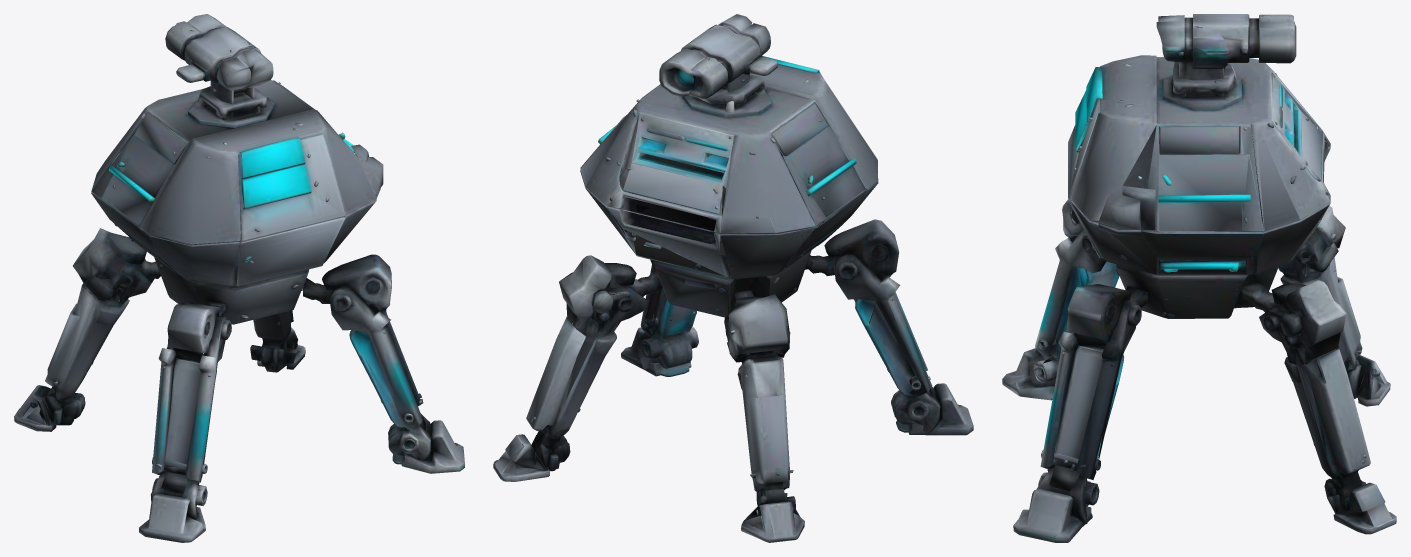
File: gad_sentry.glb
3 renders of one model, left to right at view 1: azimuth 30°, elevation 25°; view 2: azimuth 150°, elevation 25°; view 3: azimuth 270°, elevation 25°, orthographic. The views are drawn at different scales.
Visible parts, largest first — view 1: Model; view 2: Model; view 3: Model.
Part boxes in pixels (bbox=[...]): Model: bbox=[14, 14, 464, 542]; Model: bbox=[493, 14, 973, 542]; Model: bbox=[1002, 14, 1396, 542].
Bounding box in the file's own units: 0.8589 × 0.9995 × 0.8179.
1 material, 1 textured.
